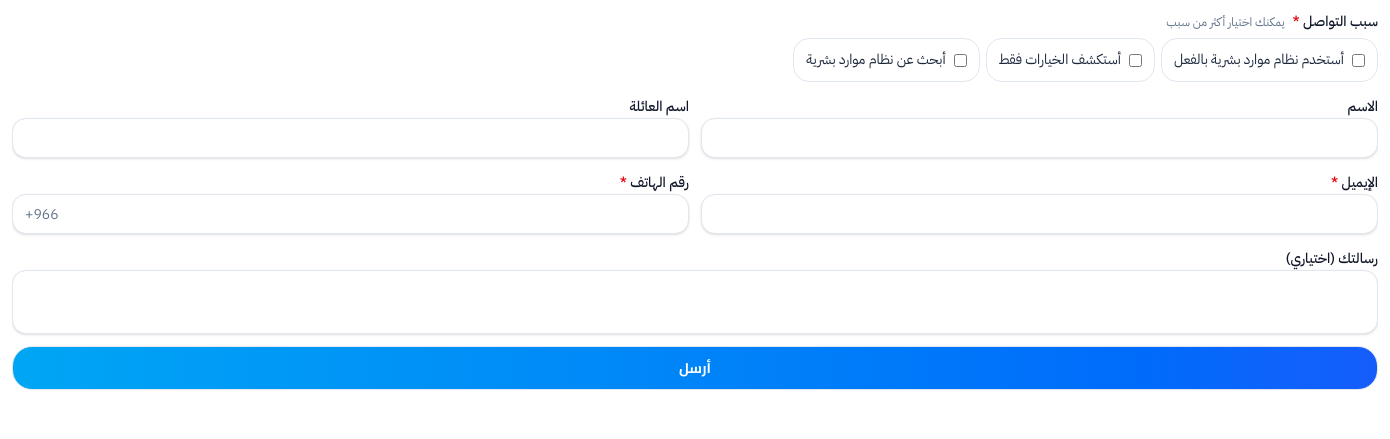
Scenario: scoped Arabic contact labels › uses the provided error message for a failed request
The width and height of the screenshot is (1390, 439).
Click the checkbox labelled "أستكشف الخيارات فقط" at (1136, 60), box [1129, 54, 1142, 66]
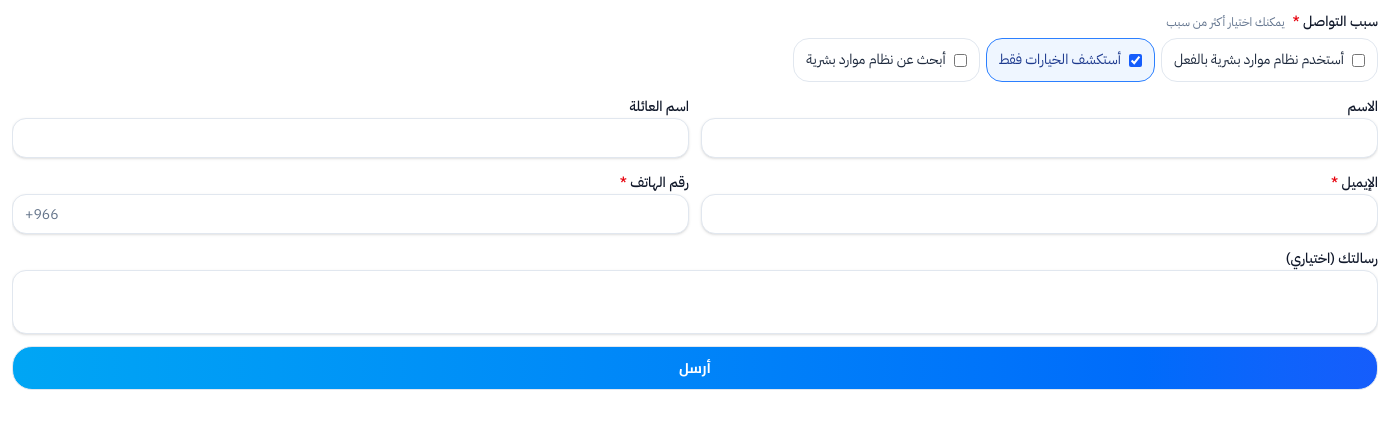
Type "test@example.com" into the field labelled "الإيميل *" at (1040, 214), box [701, 194, 1378, 234]
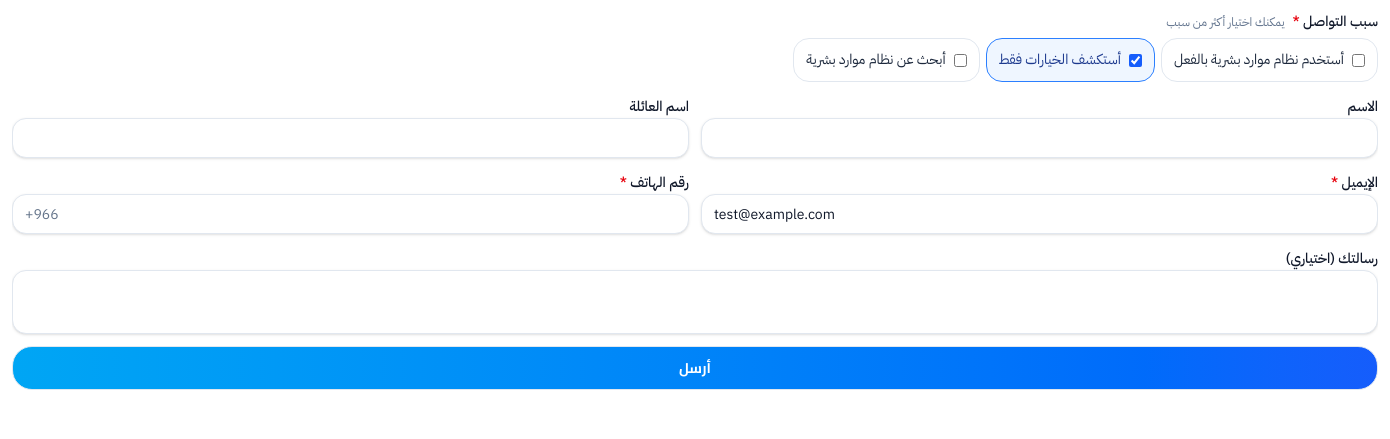
Type "0500000000" into the field labelled "رقم الهاتف *" at (350, 214), box [12, 194, 689, 234]
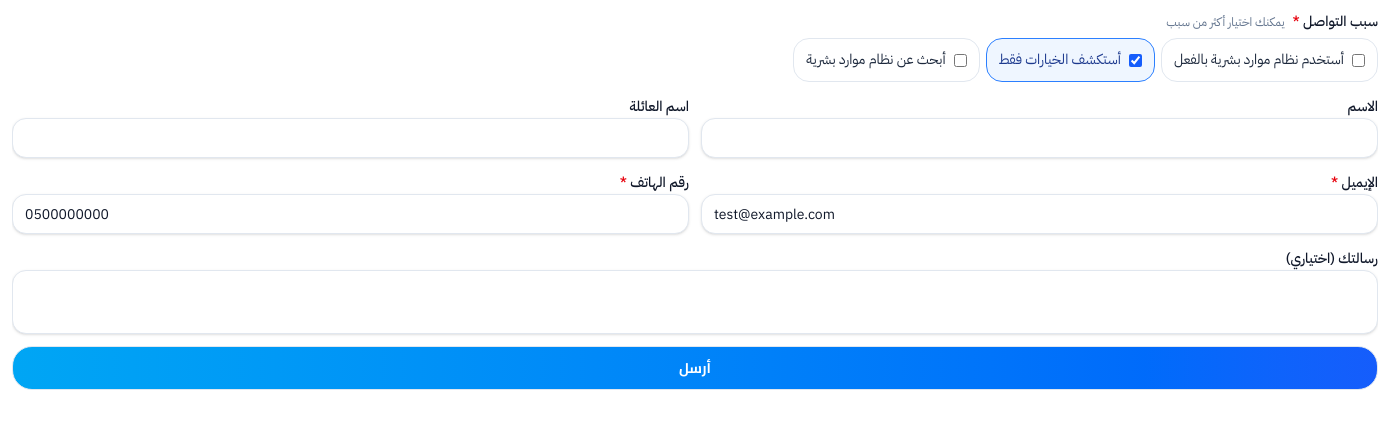
Submit the form with test id "form"
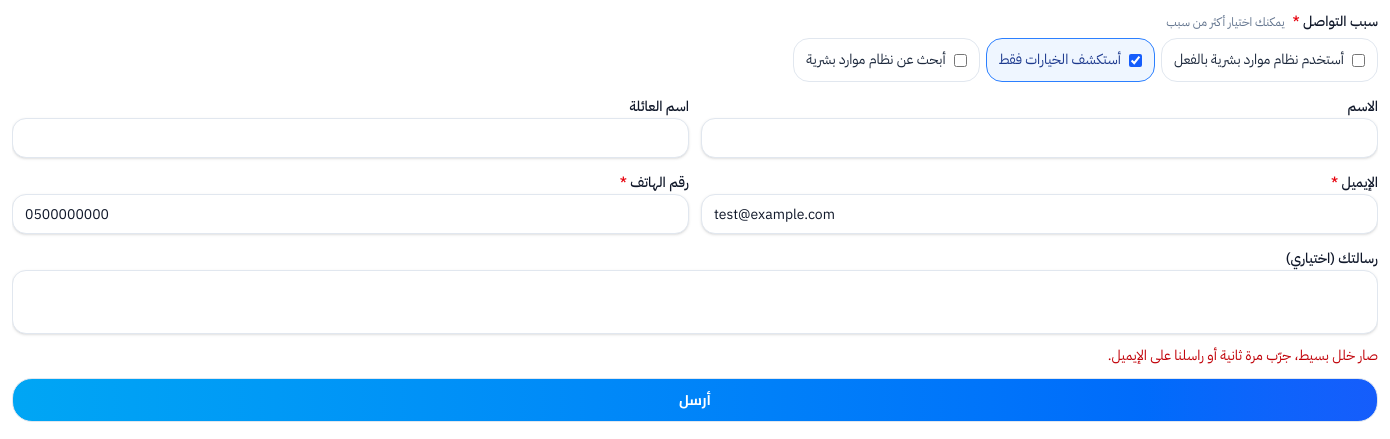
Expected: the message reads "صار خلل بسيط، جرّب مرة ثانية أو راسلنا على الإيميل.", [1108, 345, 1378, 366]
